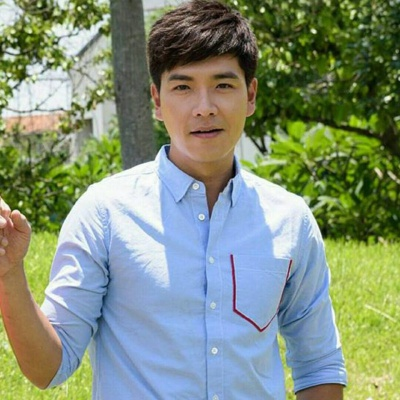male: (137, 4, 280, 172)
